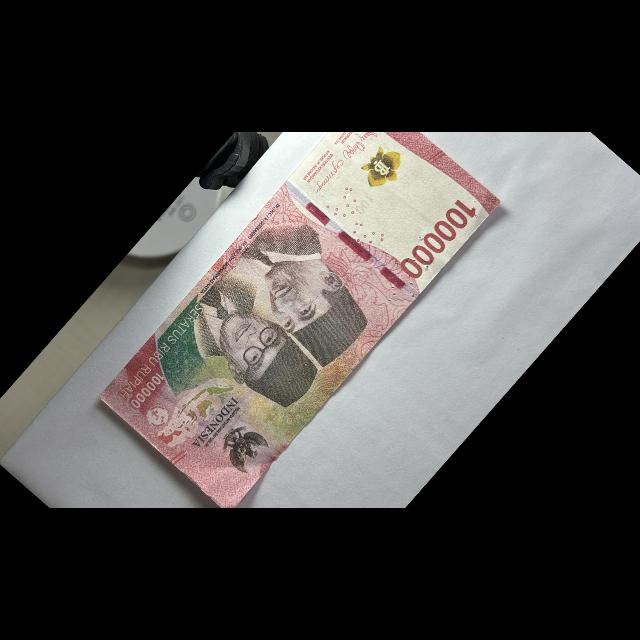Palsu-100k: (92, 81, 506, 518)
Tinta-Palsu-100k: (354, 139, 412, 198)
